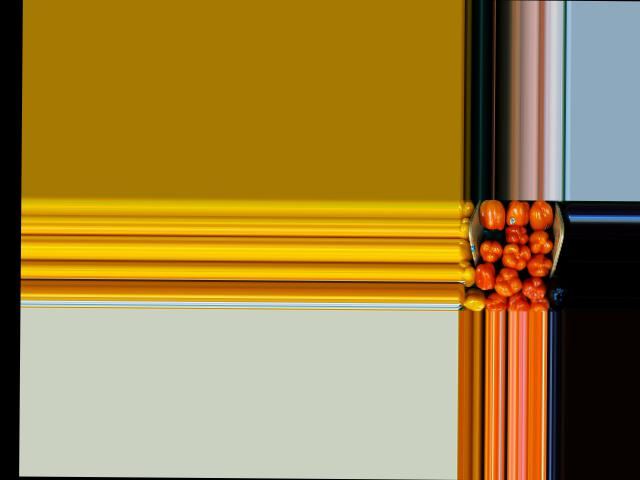bell_pepper: (460, 257, 474, 288)
